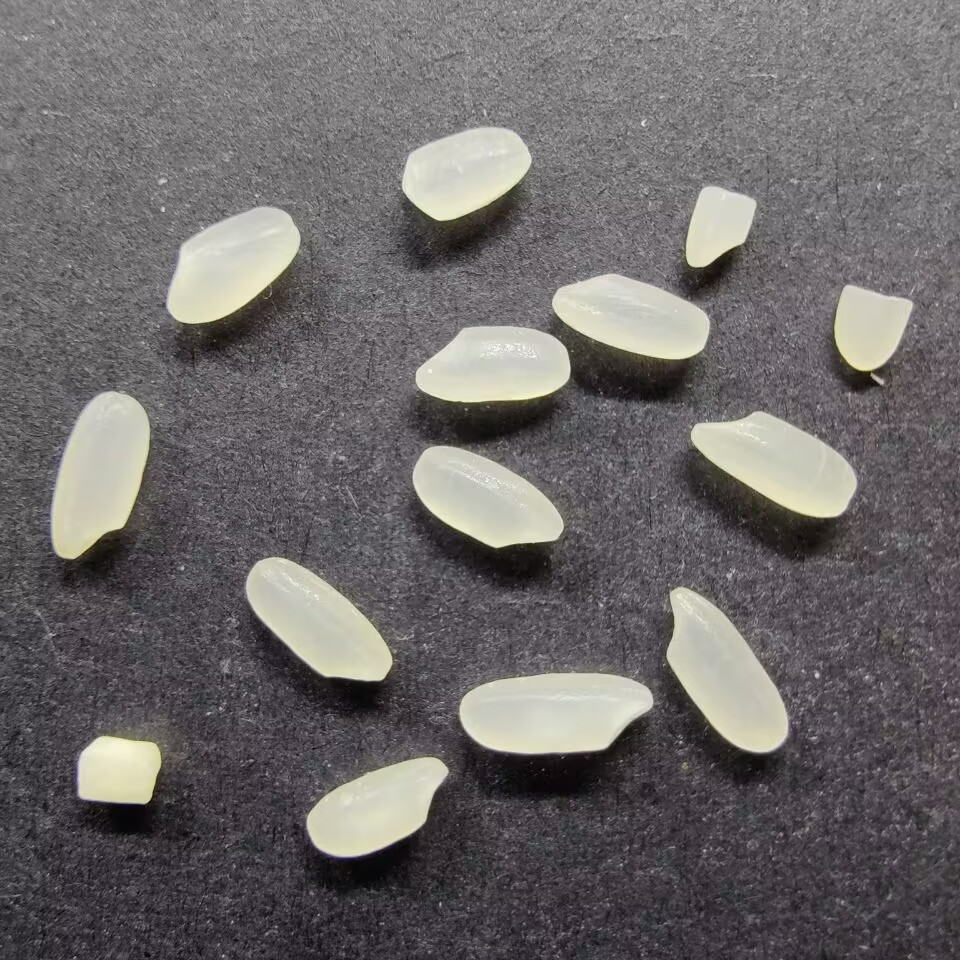broken: (832, 285, 915, 371), (74, 734, 163, 805), (685, 184, 759, 269)
rice: (662, 585, 791, 755), (243, 554, 393, 683), (688, 410, 860, 518), (48, 390, 152, 562), (459, 670, 653, 755), (411, 443, 564, 549), (165, 205, 300, 324), (305, 756, 450, 859), (550, 272, 710, 360), (400, 125, 532, 222), (413, 324, 571, 405)
